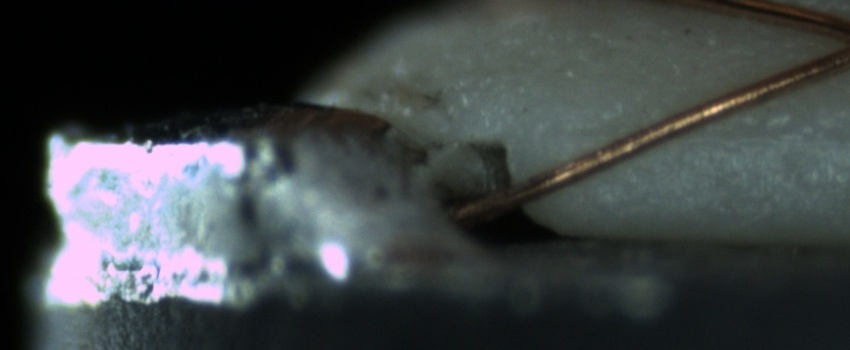DL: (556, 102, 850, 161)
